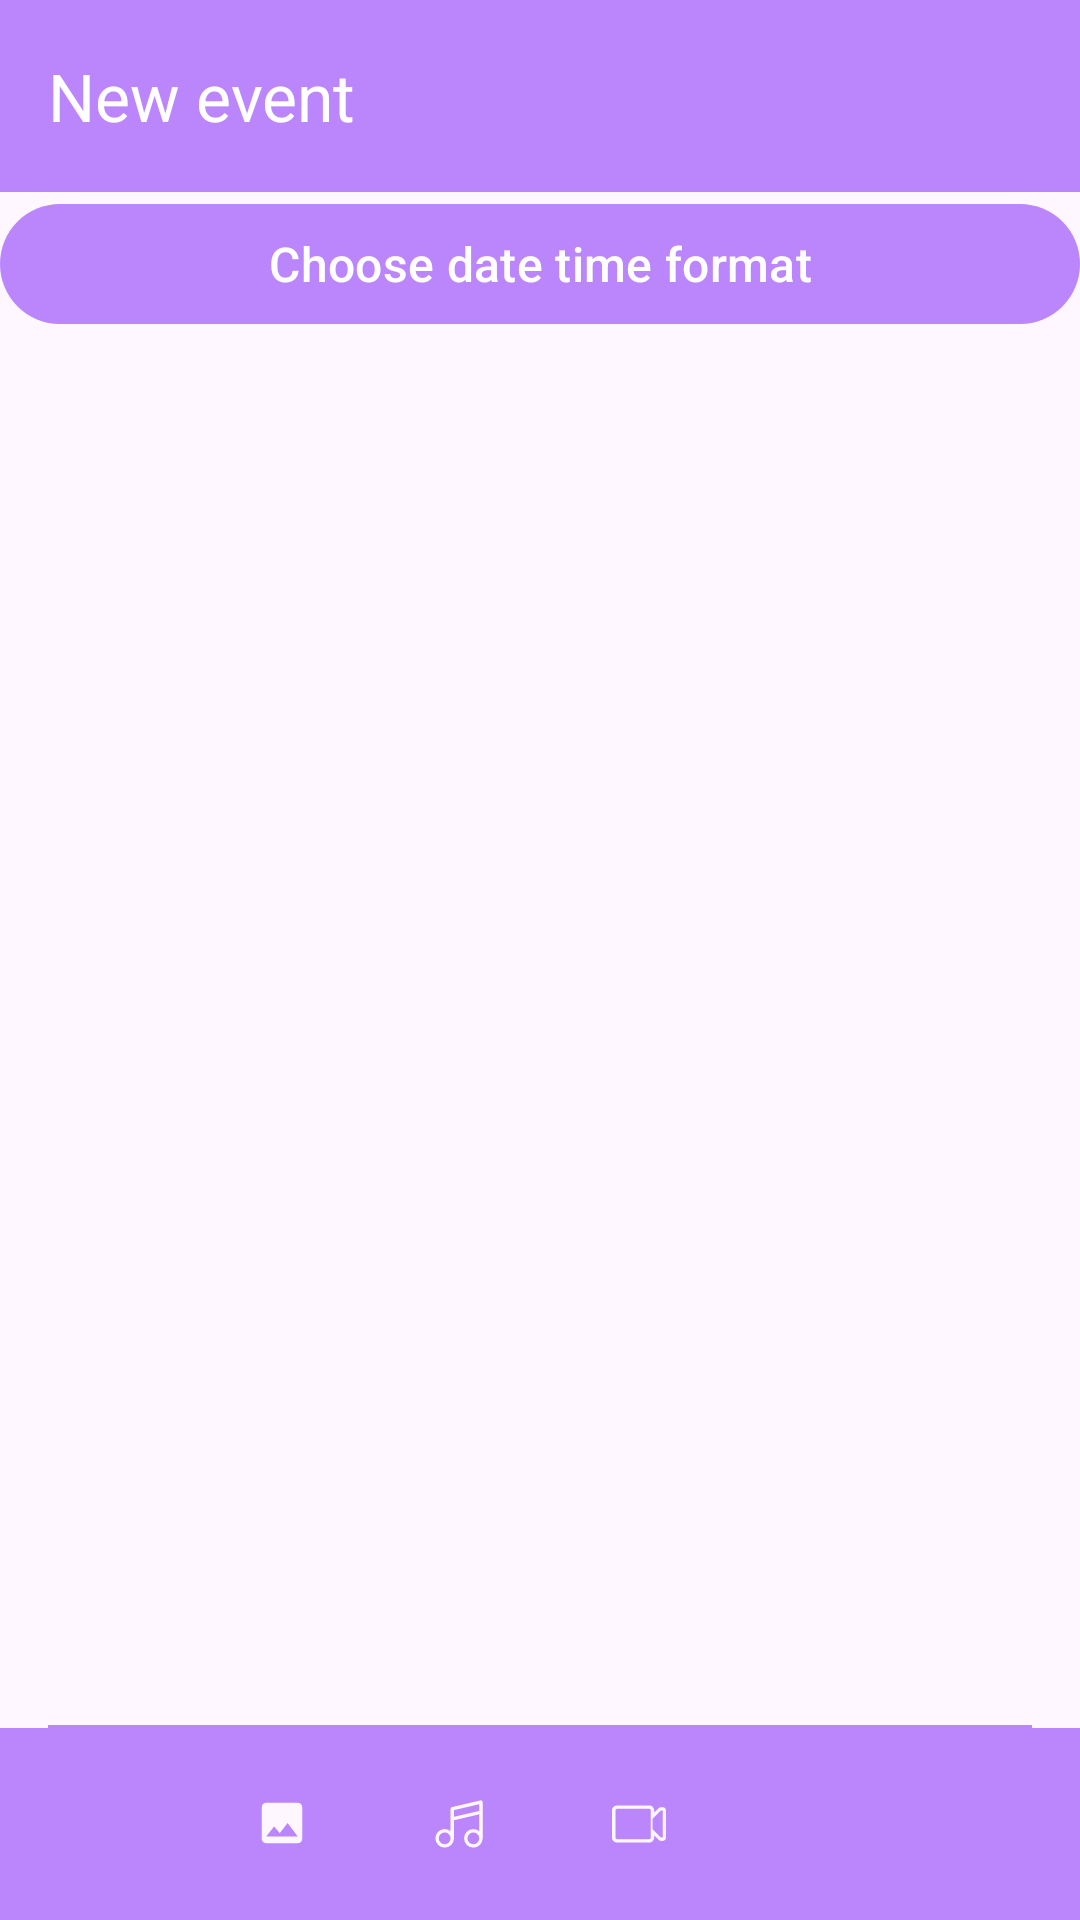

Screen size 1080x1920. Icon name, then its box in pixels as [left=x1, top=y1, right=x2, bottom=y2]:
Audio: [left=435, top=1800, right=483, bottom=1848]
Select photo: [left=261, top=1802, right=303, bottom=1844]
